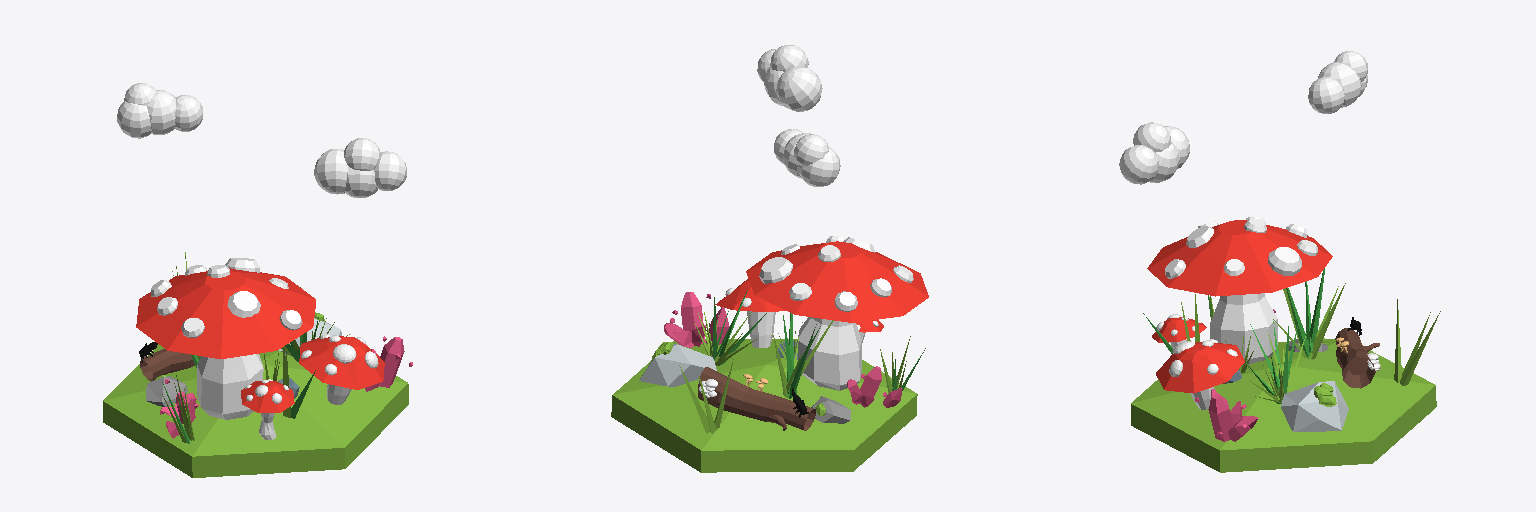
3 renders of one model, left to right at view 1: azimuth 30°, elevation 25°; view 2: azimuth 150°, elevation 25°; view 3: azimuth 270°, elevation 25°, orthographic.
Visible parts, largest first — view 1: group[number redacted], group[number redacted], group[number redacted], group[number redacted], group[number redacted], group[number redacted], group[number redacted], group[number redacted], group[number redacted]; view 2: group[number redacted], group[number redacted], group[number redacted], group[number redacted], group[number redacted], group[number redacted], group[number redacted], group[number redacted], group[number redacted], group[number redacted], group[number redacted], group[number redacted] (+1 smaller); view 3: group[number redacted], group[number redacted], group[number redacted], group[number redacted], group[number redacted], group[number redacted], group[number redacted], group[number redacted], group[number redacted], group[number redacted], group[number redacted], group[number redacted].
Boxes of the visible parts, <box> form: group[number redacted]: <box>103,344,408,477</box>; group[number redacted]: <box>136,258,315,419</box>; group[number redacted]: <box>314,138,406,197</box>; group[number redacted]: <box>299,334,384,404</box>; group[number redacted]: <box>117,83,202,138</box>; group[number redacted]: <box>241,379,294,439</box>; group[number redacted]: <box>140,349,194,381</box>; group[number redacted]: <box>146,376,187,406</box>; group[number redacted]: <box>371,337,404,387</box>; group[number redacted]: <box>611,339,917,472</box>; group[number redacted]: <box>746,236,928,390</box>; group[number redacted]: <box>757,45,822,111</box>; group[number redacted]: <box>698,367,815,430</box>; group[number redacted]: <box>774,129,840,186</box>; group[number redacted]: <box>639,344,716,386</box>; group[number redacted]: <box>715,279,785,347</box>; group[number redacted]: <box>664,292,706,347</box>; group[number redacted]: <box>773,313,833,398</box>; group[number redacted]: <box>705,290,766,365</box>; group[number redacted]: <box>847,366,881,407</box>; group[number redacted]: <box>679,359,733,433</box>; group[number redacted]: <box>1131,339,1436,472</box>; group[number redacted]: <box>1147,217,1332,364</box>; group[number redacted]: <box>1156,339,1244,409</box>; group[number redacted]: <box>1119,122,1189,184</box>; group[number redacted]: <box>1308,51,1367,113</box>; group[number redacted]: <box>1281,381,1348,431</box>; group[number redacted]: <box>1273,268,1345,359</box>; group[number redacted]: <box>1335,328,1379,388</box>; group[number redacted]: <box>1208,394,1258,441</box>; group[number redacted]: <box>1152,314,1206,348</box>; group[number redacted]: <box>1394,299,1440,385</box>; group[number redacted]: <box>1250,321,1306,396</box>.
Size of the model in its own units: 0.8903 by 1.1 by 0.9727.